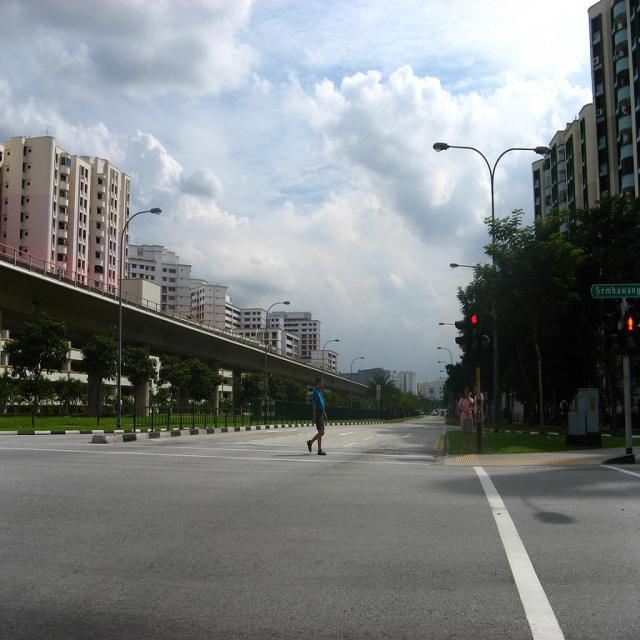off traffic light: (451, 316, 468, 353)
traffic light: (468, 311, 485, 362), (624, 310, 639, 355)
